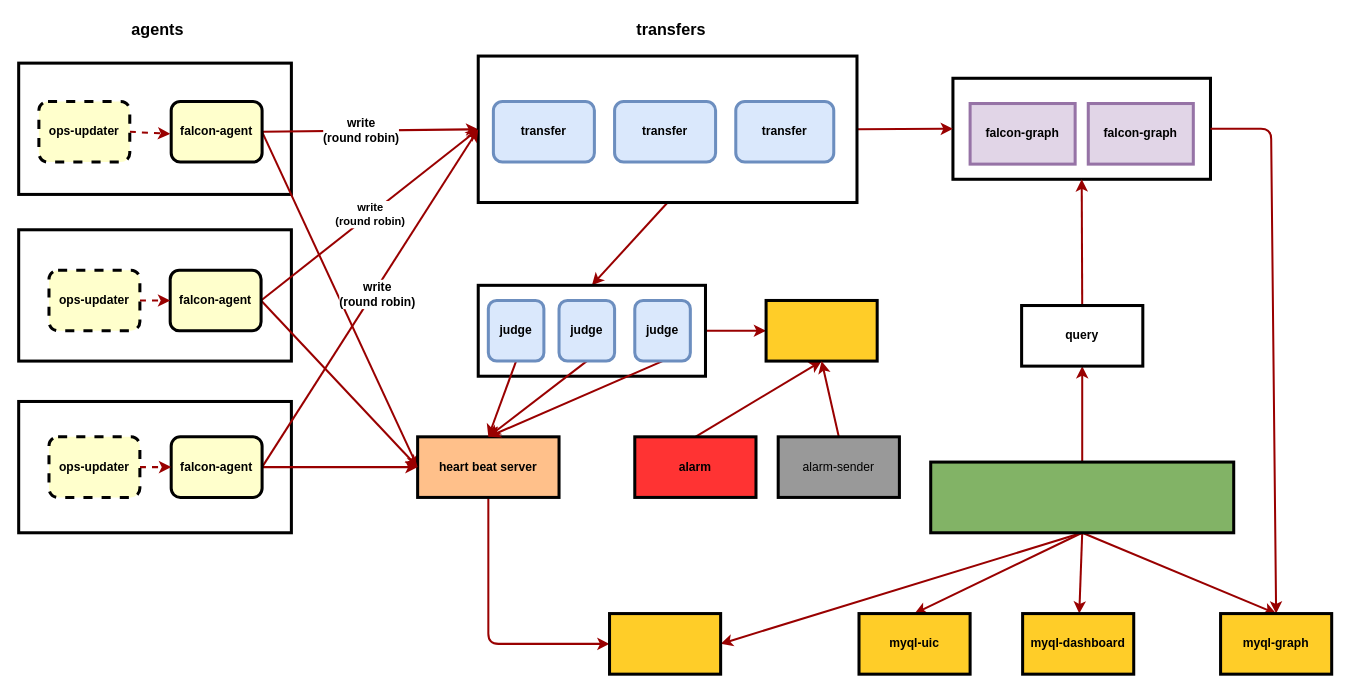
Some shapes in this 1350 by 693 pixel diagram are drawn without their labels. The centre of each missing label's shape, as x and y in pixels:
dashboard+uic+portal (web ui): point 1082,497
myql- portal: point 665,643
redis-alarm: point 821,330
